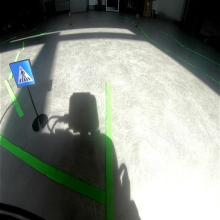crosswalk: (9, 58, 36, 88)
